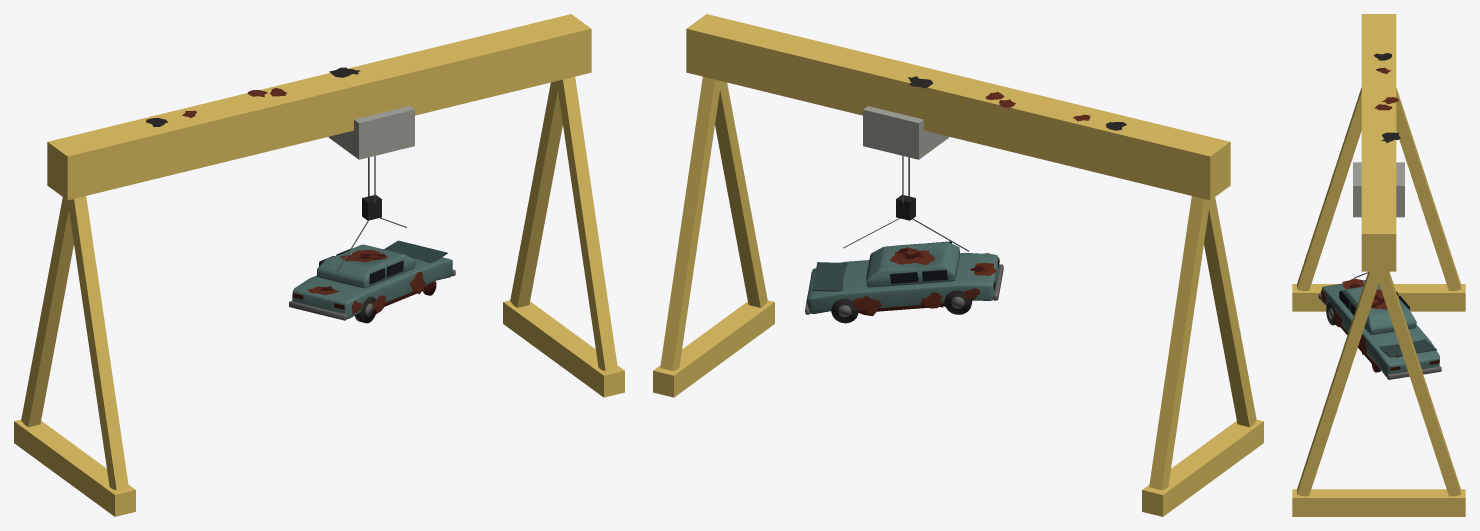
File: works_gantry.glb
The picture shows the model from 3 angles, left to right: view 1: azimuth 30°, elevation 25°; view 2: azimuth 150°, elevation 25°; view 3: azimuth 270°, elevation 25°; orthographic projection. The views are drawn at different scales.
Visible parts, largest first — view 1: works_gantry; view 2: works_gantry; view 3: works_gantry.
Boxes of the visible parts, x1,y1,x2,y2 form: works_gantry: (14,14,624,516); works_gantry: (653,14,1263,516); works_gantry: (1292,14,1465,516).
Size of the model in its own units: 15 by 9.11 by 5.
